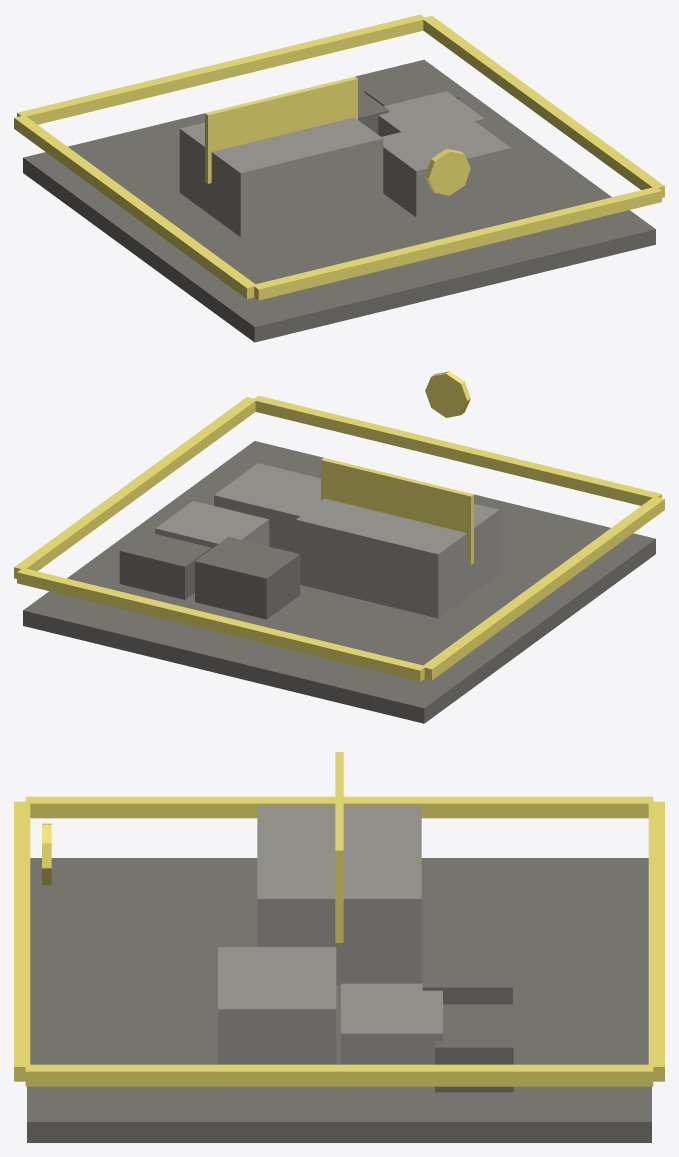
File: t7_stonecutter.glb
3 renders of one model, top to bottom at view 1: azimuth 30°, elevation 25°; view 2: azimuth 150°, elevation 25°; view 3: azimuth 270°, elevation 25°, orthographic. The views are drawn at different scales.
Visible parts, largest first — view 1: FootprintBase, WorkBlock, InputStonePileA, TierFrontTrim, TierBackTrim, CutLine, TierLeftTrim, TierRightTrim, InputStonePileB, TierEmblem, OutputBlockB, OutputBlockA; view 2: FootprintBase, WorkBlock, TierBackTrim, TierFrontTrim, OutputBlockA, CutLine, TierLeftTrim, InputStonePileA, TierRightTrim, OutputBlockB, InputStonePileB, TierEmblem; view 3: FootprintBase, WorkBlock, TierRightTrim, InputStonePileA, TierLeftTrim, InputStonePileB, OutputBlockA, OutputBlockB, TierBackTrim, TierFrontTrim, CutLine, TierEmblem.
Boxes of the visible parts, box(x1,y1,x2,y2) form: FootprintBase: box(23, 59, 655, 342); WorkBlock: box(179, 117, 383, 237); InputStonePileA: box(381, 116, 511, 217); TierFrontTrim: box(253, 186, 661, 300); TierBackTrim: box(17, 14, 426, 124); CutLine: box(205, 76, 357, 183); TierLeftTrim: box(14, 115, 254, 298); TierRightTrim: box(423, 16, 664, 197); InputStonePileB: box(378, 91, 484, 136); TierEmblem: box(425, 149, 470, 195); OutputBlockB: box(364, 75, 459, 106); OutputBlockA: box(358, 88, 388, 134); FootprintBase: box(23, 441, 655, 723); WorkBlock: box(295, 498, 499, 618); TierBackTrim: box(17, 568, 425, 681); TierFrontTrim: box(253, 395, 661, 505); OutputBlockA: box(195, 536, 300, 619); CutLine: box(321, 458, 473, 564); TierLeftTrim: box(423, 497, 664, 680); InputStonePileA: box(214, 463, 320, 552); TierRightTrim: box(14, 397, 255, 578); OutputBlockB: box(119, 529, 211, 599); InputStonePileB: box(155, 501, 269, 548); TierEmblem: box(425, 371, 470, 417); FootprintBase: box(27, 858, 651, 1142); WorkBlock: box(257, 805, 421, 985); TierRightTrim: box(25, 1064, 653, 1086); InputStonePileA: box(218, 947, 336, 1064); TierLeftTrim: box(25, 796, 653, 818); InputStonePileB: box(341, 983, 442, 1064); OutputBlockA: box(422, 940, 512, 1004); OutputBlockB: box(435, 1004, 513, 1092); TierBackTrim: box(648, 801, 664, 1081); TierFrontTrim: box(14, 801, 30, 1081); CutLine: box(335, 752, 343, 942); TierEmblem: box(42, 823, 51, 885).
Bounding box in the file's own units: 3.96 × 1.25 × 3.96.
